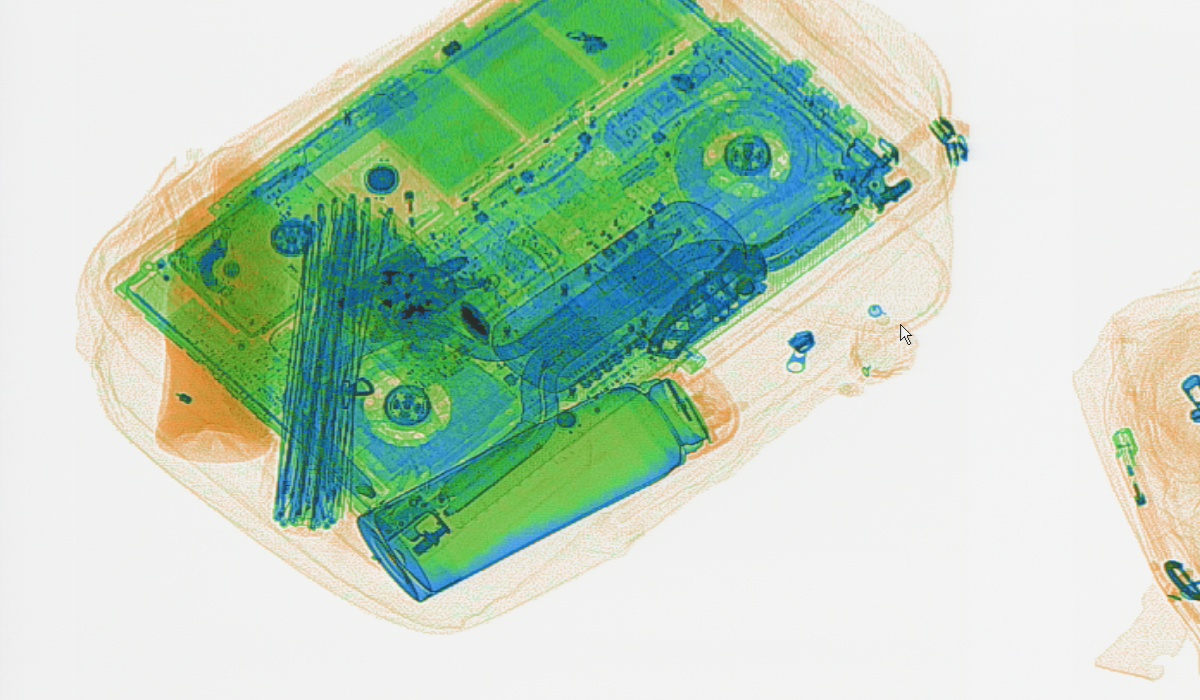knife: (646, 241, 768, 358)
lighter: (1109, 427, 1174, 560), (388, 155, 427, 303)
